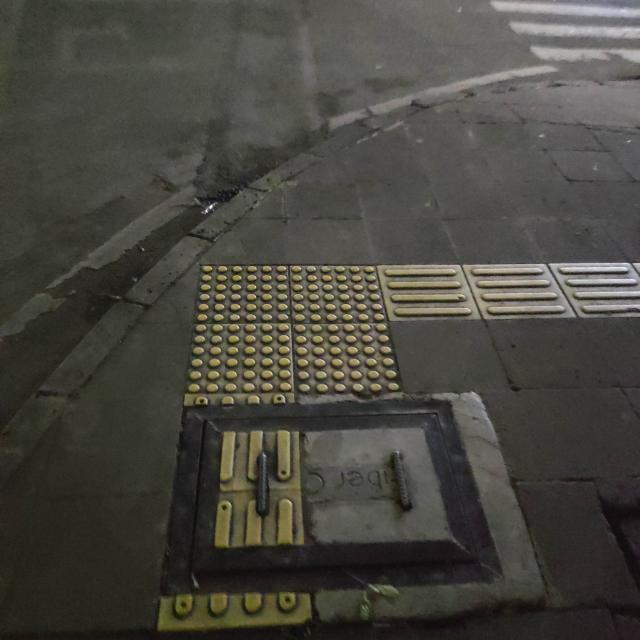kanan: (168, 225, 552, 478)
